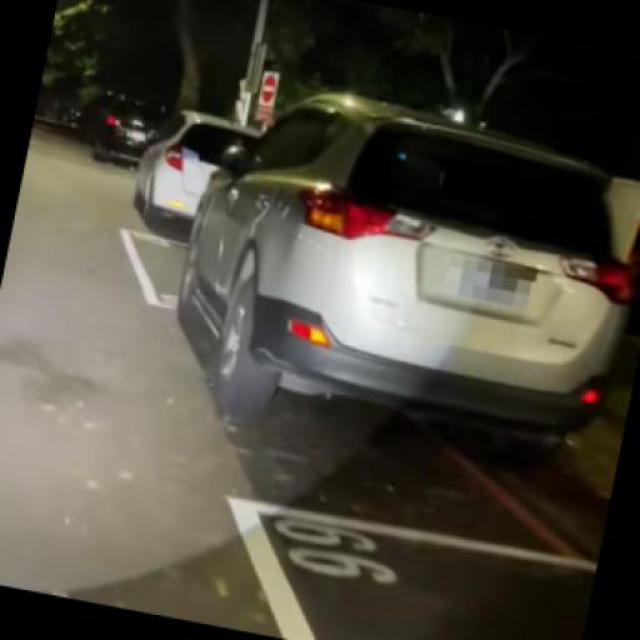Legalparking: (90, 92, 625, 599)
